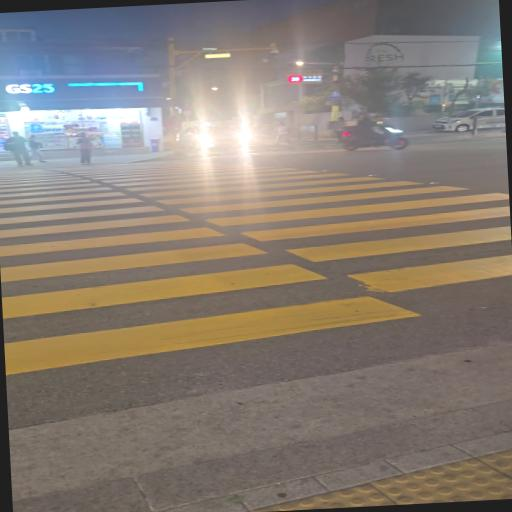yellow-crosswalk: (0, 141, 512, 392)
